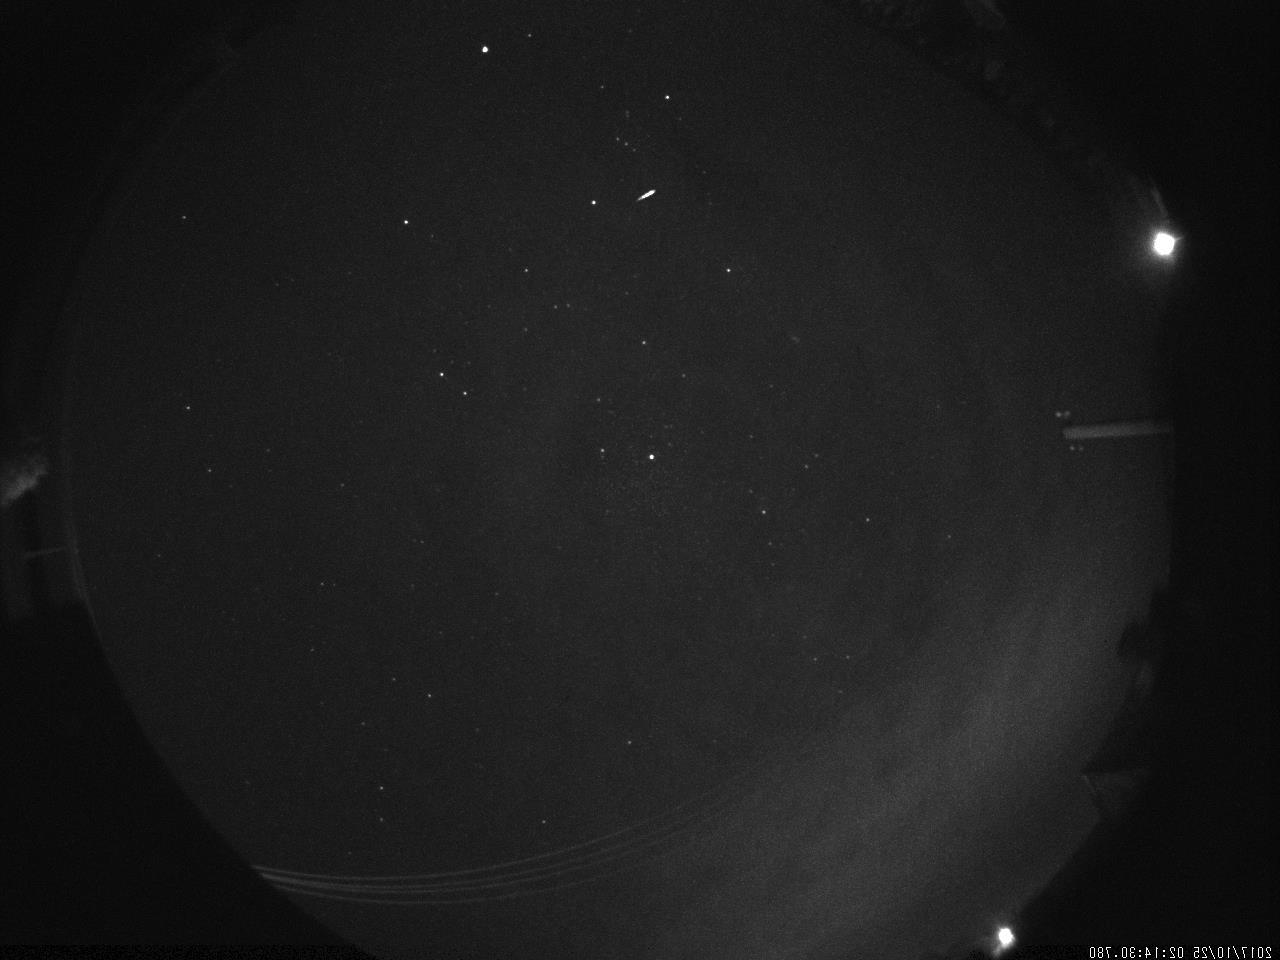meteor: (620, 173, 670, 216)
